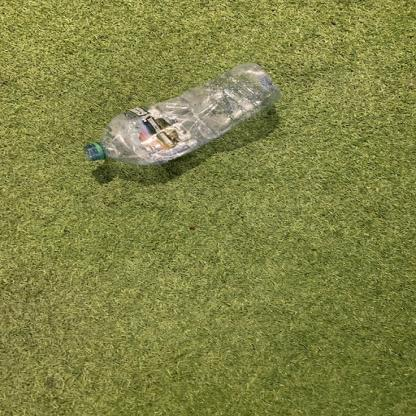trash: (76, 61, 285, 170)
